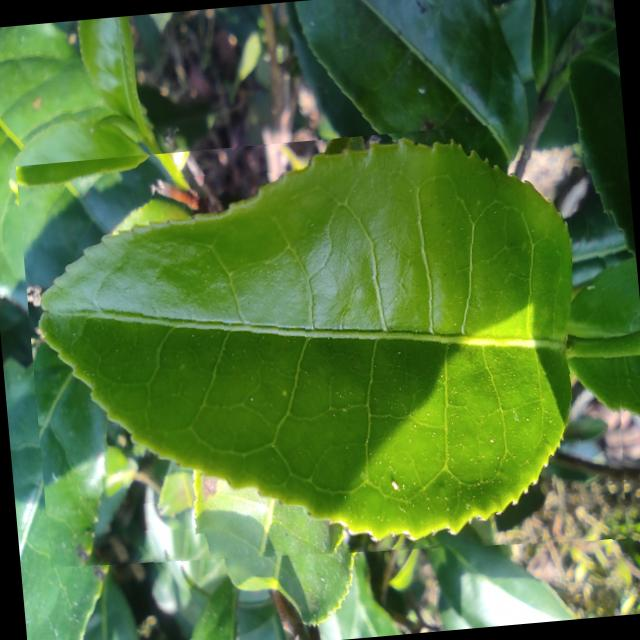Category C(4-7 days): (15, 114, 640, 588)
